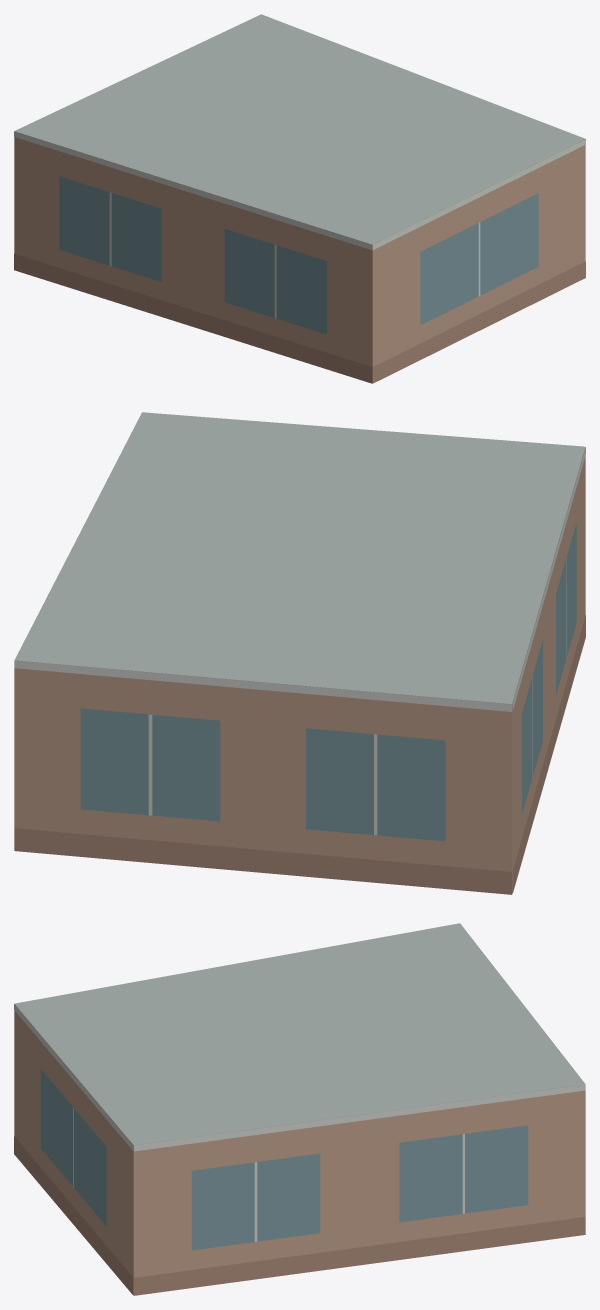
File: survey-upis-32896425.glb
3 renders of one model, top to bottom at view 1: azimuth 30°, elevation 25°; view 2: azimuth 150°, elevation 25°; view 3: azimuth 270°, elevation 25°, orthographic. The views are drawn at different scales.
Visible parts, largest first — view 1: survey-upis-32896425.tmp; view 2: survey-upis-32896425.tmp; view 3: survey-upis-32896425.tmp.
Part boxes in pixels (x1,y1,x2,y2): survey-upis-32896425.tmp: (14, 14, 585, 383); survey-upis-32896425.tmp: (14, 412, 585, 894); survey-upis-32896425.tmp: (14, 923, 585, 1295).
Bounding box in the file's own units: 9.67 × 3.05 × 10.51.
